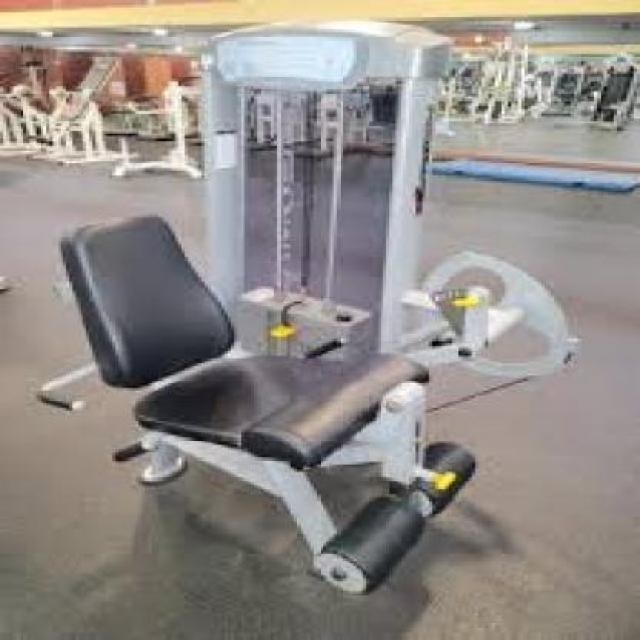leg extension: (26, 12, 586, 611)
